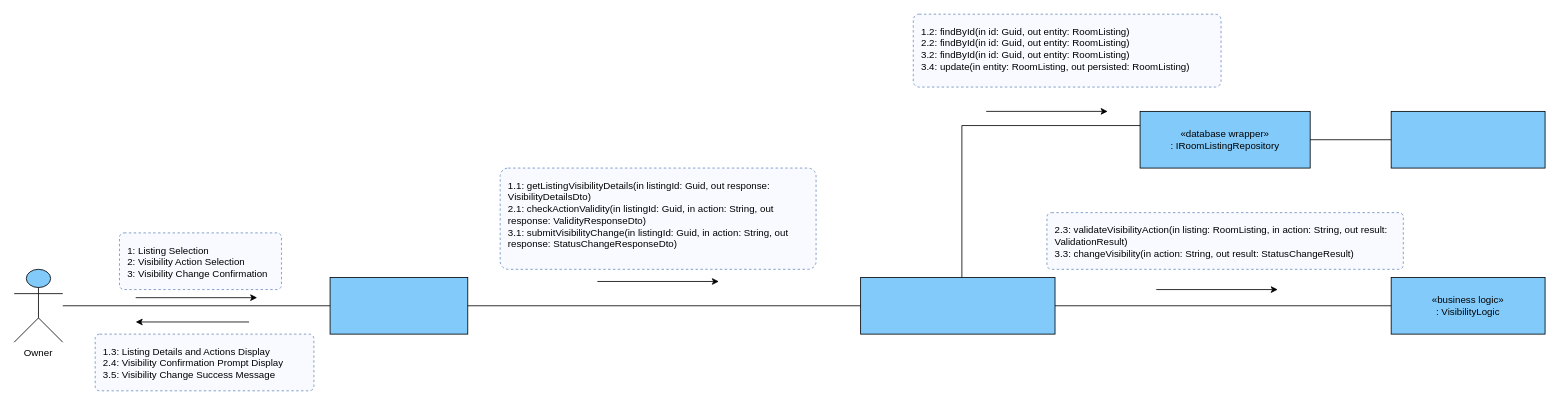
The diagram is 1559 pixels wide and 405 high, and some of its shapes have lost their labels. The box of each missing label's shape, as (x1, y1, x2, y2) in pixels:
«coordinator» : ChangeVisibilityController: (860, 277, 1055, 334)
«data abstraction» : RoomListing: (1390, 111, 1545, 168)
«user interaction» : OwnerUI: (329, 277, 468, 334)
